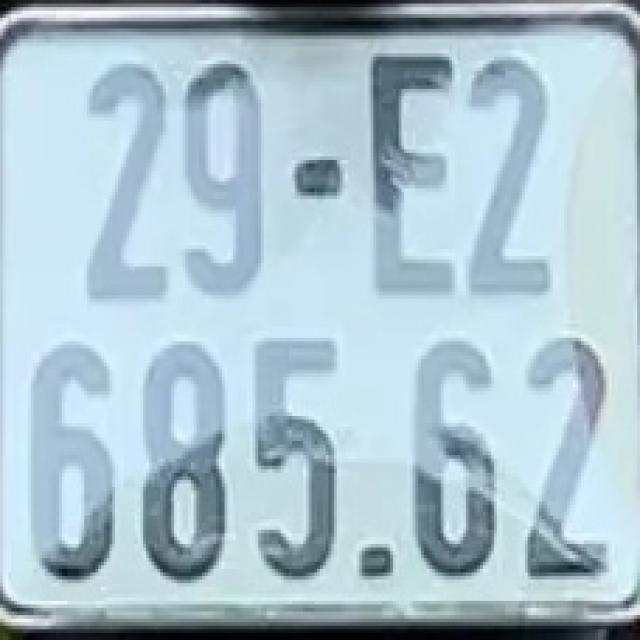2: (516, 324, 618, 583), (76, 53, 174, 306), (463, 46, 559, 299)
5: (247, 324, 345, 583)
6: (402, 323, 506, 580), (22, 334, 120, 580)
8: (138, 331, 233, 583)
9: (177, 53, 269, 299)
E: (362, 39, 458, 302)
